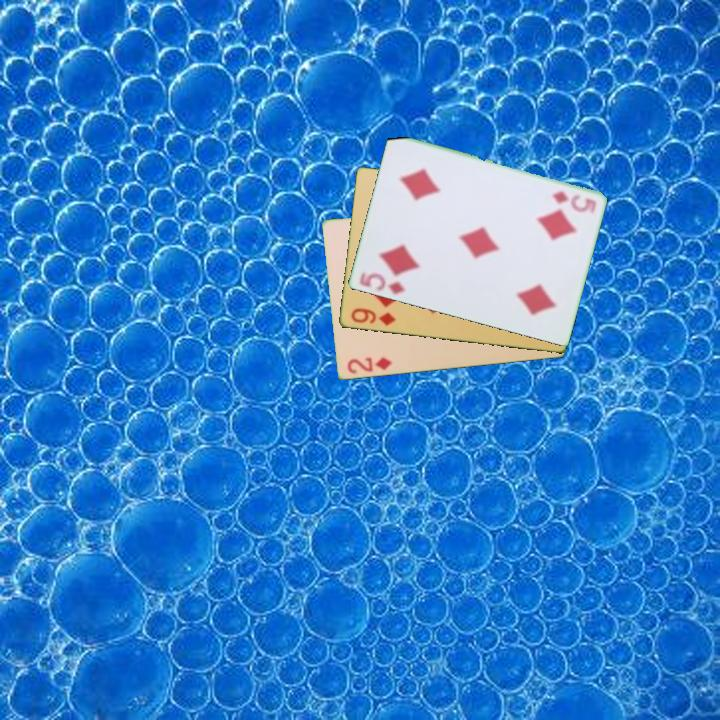2d: (344, 354, 395, 377)
5d: (356, 269, 407, 298), (548, 188, 599, 214)
9d: (347, 305, 398, 329)
